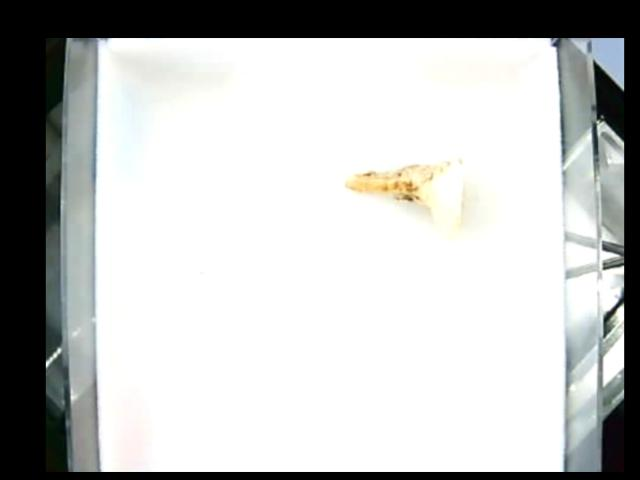Mooli: (331, 155, 469, 238)
